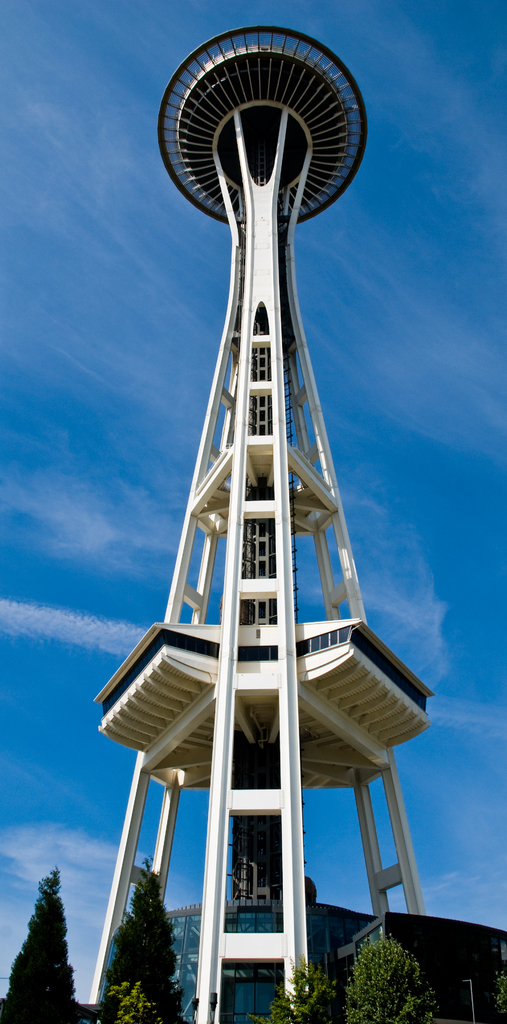Tree: (0, 853, 507, 1023)
